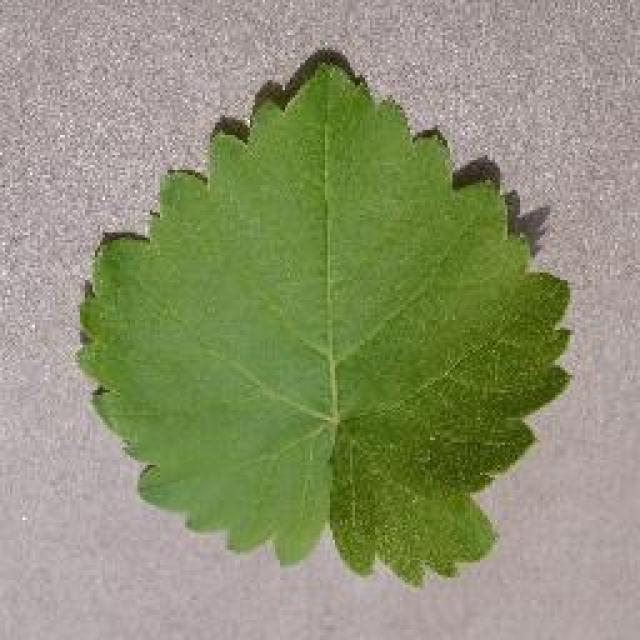Healthy: (64, 54, 587, 589)
